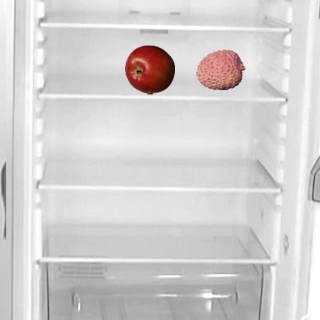Apple Braeburn: (124, 44, 174, 94)
Lychee: (195, 44, 245, 94)
